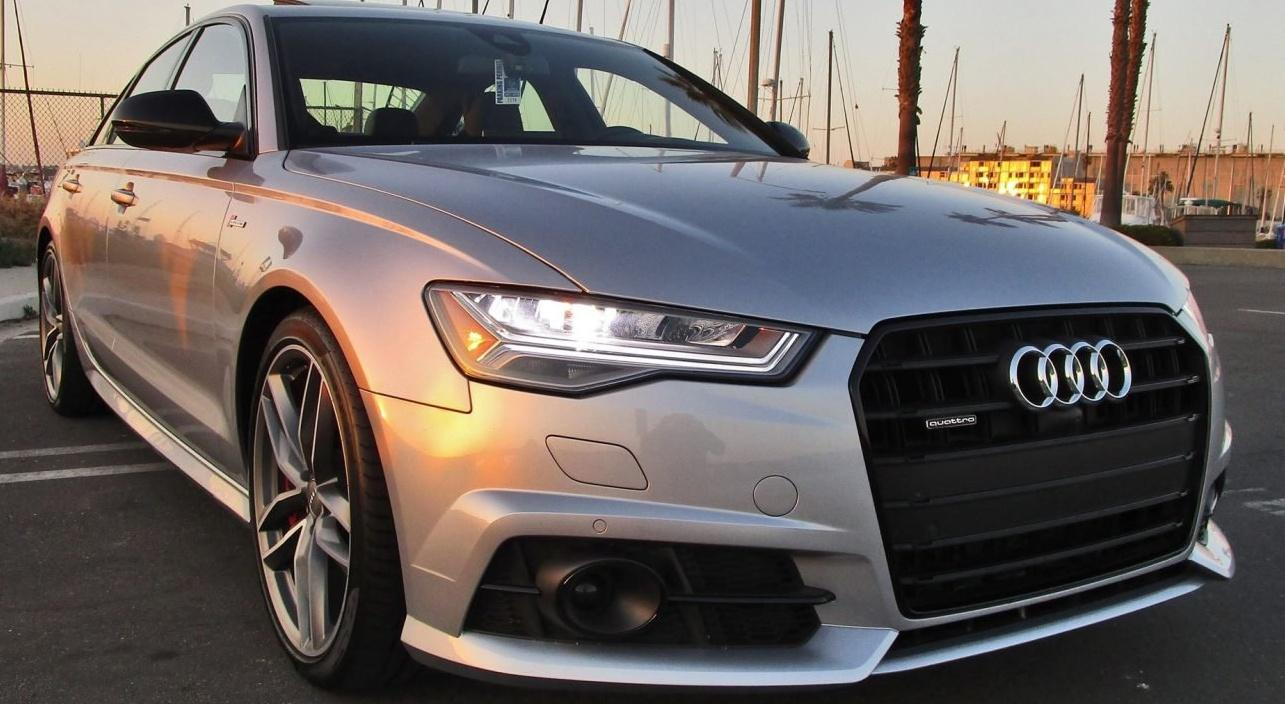Cars: (39, 1, 1233, 689)
